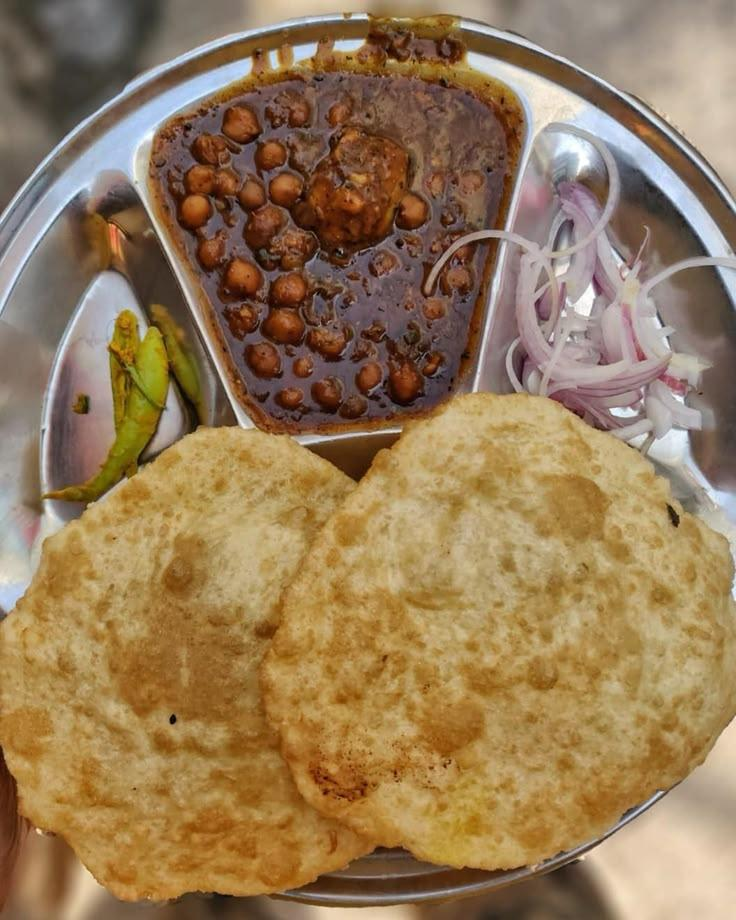chole: (174, 97, 494, 392)
puri: (22, 491, 734, 849)
salad: (534, 159, 718, 440), (46, 283, 201, 484)
